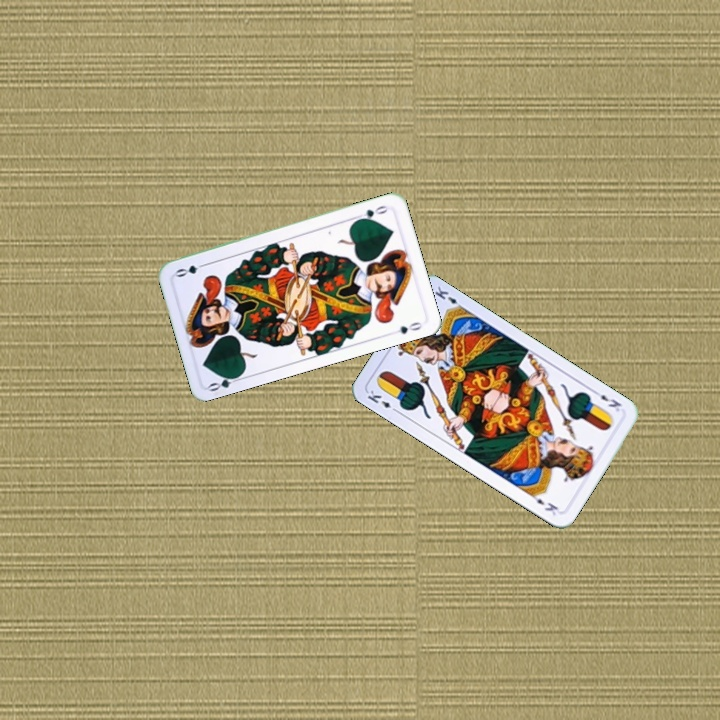EK: (363, 386, 401, 415), (589, 386, 624, 414)
GO: (205, 371, 245, 394), (352, 201, 392, 223)
